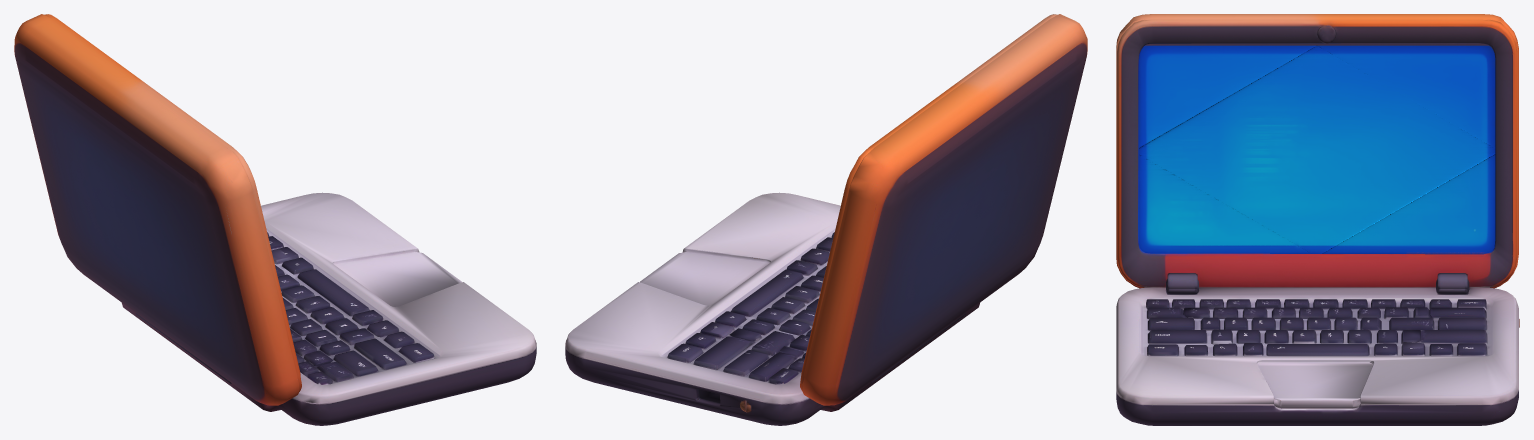
File: laptop.glb
The picture shows the model from 3 angles, left to right: view 1: azimuth 30°, elevation 25°; view 2: azimuth 150°, elevation 25°; view 3: azimuth 270°, elevation 25°; orthographic projection. The views are drawn at different scales.
Visible parts, largest first — view 1: tripo_node_92a4ba3a-bf44-4b8a-8688-638e29678d5e; view 2: tripo_node_92a4ba3a-bf44-4b8a-8688-638e29678d5e; view 3: tripo_node_92a4ba3a-bf44-4b8a-8688-638e29678d5e.
Boxes of the visible parts, left/top/right/bottom form: tripo_node_92a4ba3a-bf44-4b8a-8688-638e29678d5e: left=14, top=14, right=536, bottom=425; tripo_node_92a4ba3a-bf44-4b8a-8688-638e29678d5e: left=565, top=14, right=1087, bottom=425; tripo_node_92a4ba3a-bf44-4b8a-8688-638e29678d5e: left=1116, top=14, right=1519, bottom=425.
Size of the model in its own units: 0.8926 by 0.7559 by 0.998.
Materials: 1 (1 with a texture image).
